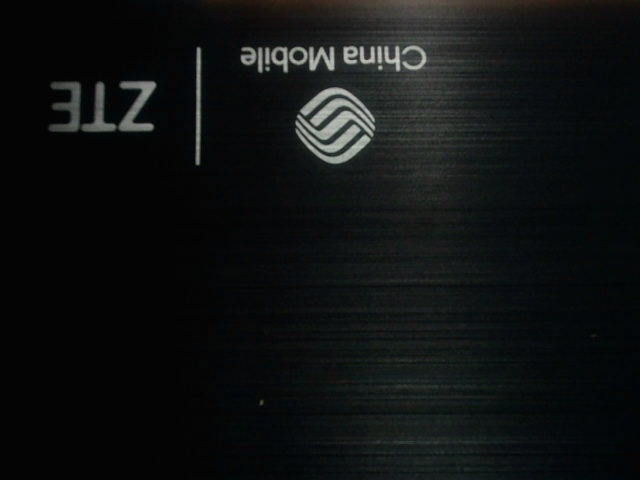AL_ZTEChinaMobile: (30, 24, 437, 168)
